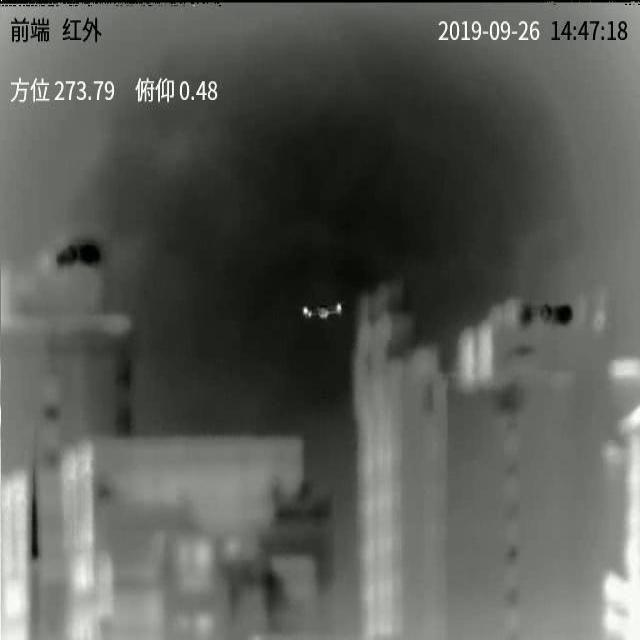drone: (302, 302, 341, 318)
